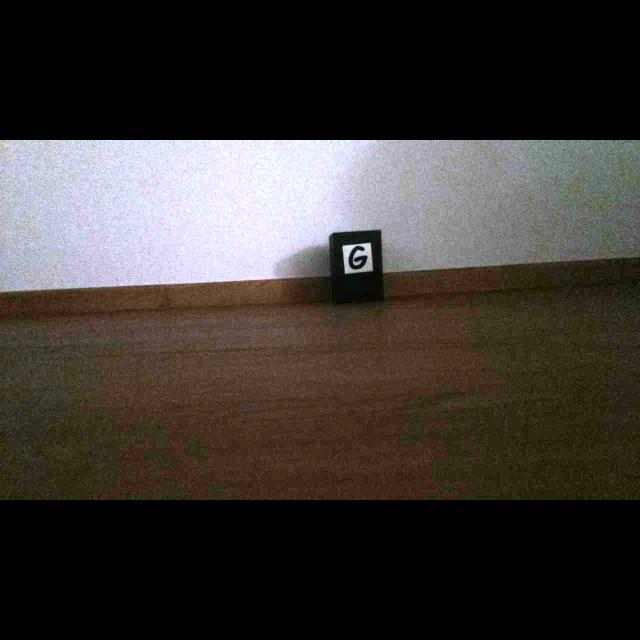G: (349, 246, 368, 269)
